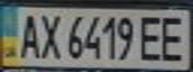1: (100, 12, 121, 60)
4: (81, 11, 103, 61)
6: (63, 11, 84, 60)
9: (115, 12, 139, 61)
A: (15, 9, 42, 60)
E: (154, 11, 190, 63), (136, 12, 166, 62)
X: (36, 10, 63, 61)
